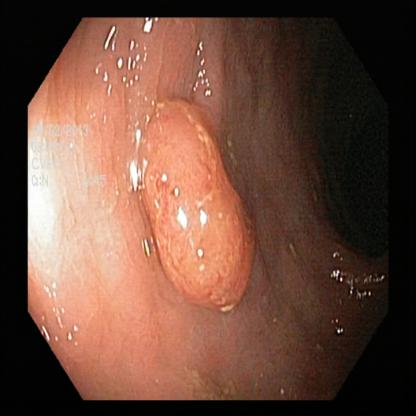Labels: (29, 120, 115, 198)
Polyps: (134, 99, 249, 311)
